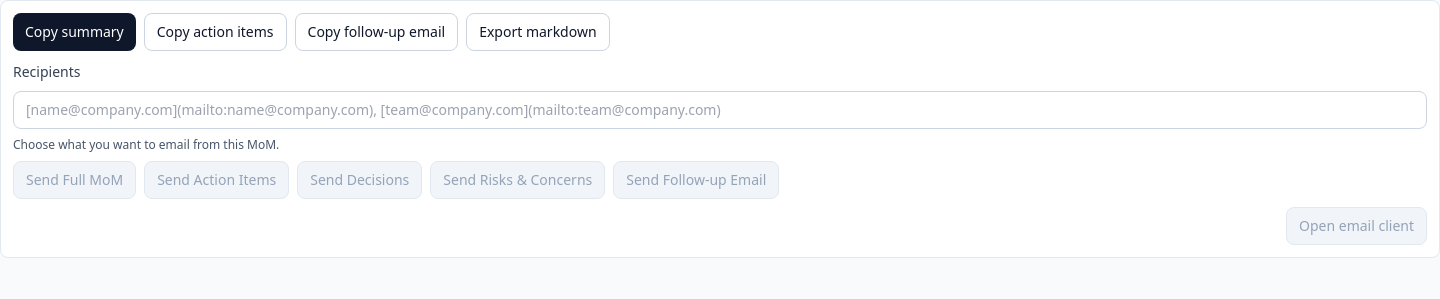
Test: ExportActions › sends selected email type for {"label":"Send Full MoM","emailType":"full_mom"}
Replace the text in the field labelled "Recipients" with "a@x.com,b@y.com": [720, 110] box x1=13 y1=91 x2=1427 y2=129
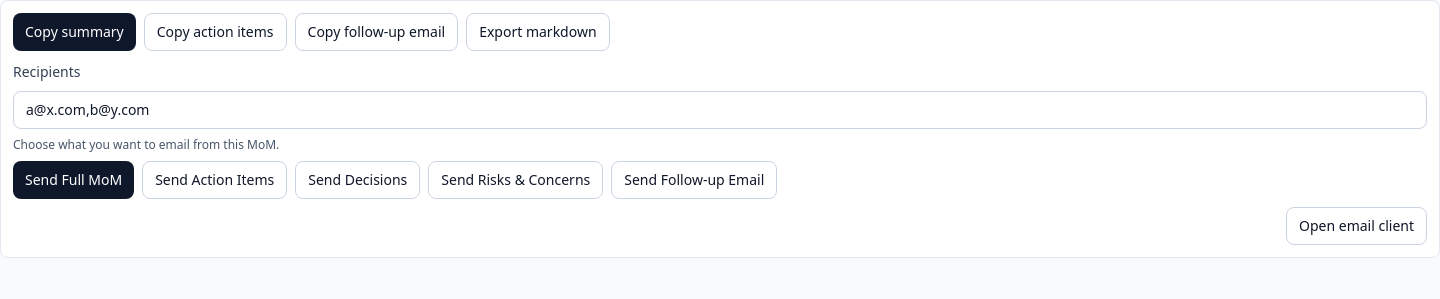
Click the button "Send Full MoM": [74, 180] box x1=13 y1=161 x2=134 y2=199
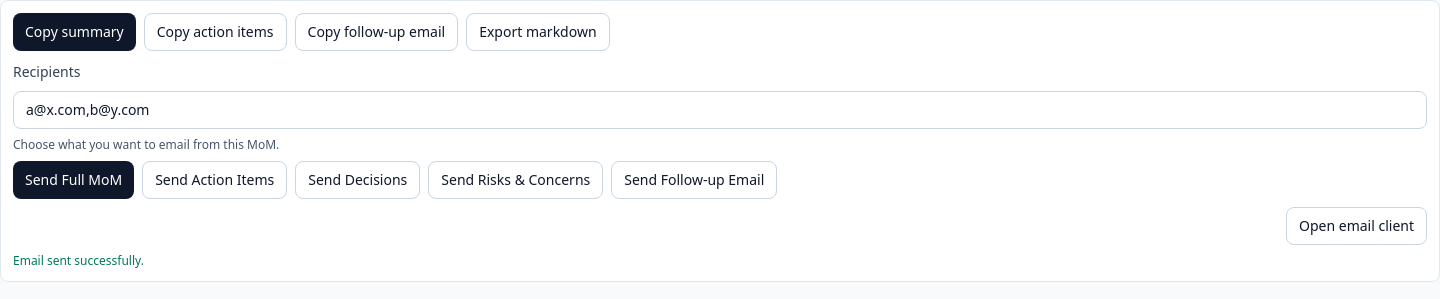
Expected: the text "Email sent successfully." is shown, x1=13 y1=252 x2=144 y2=269
